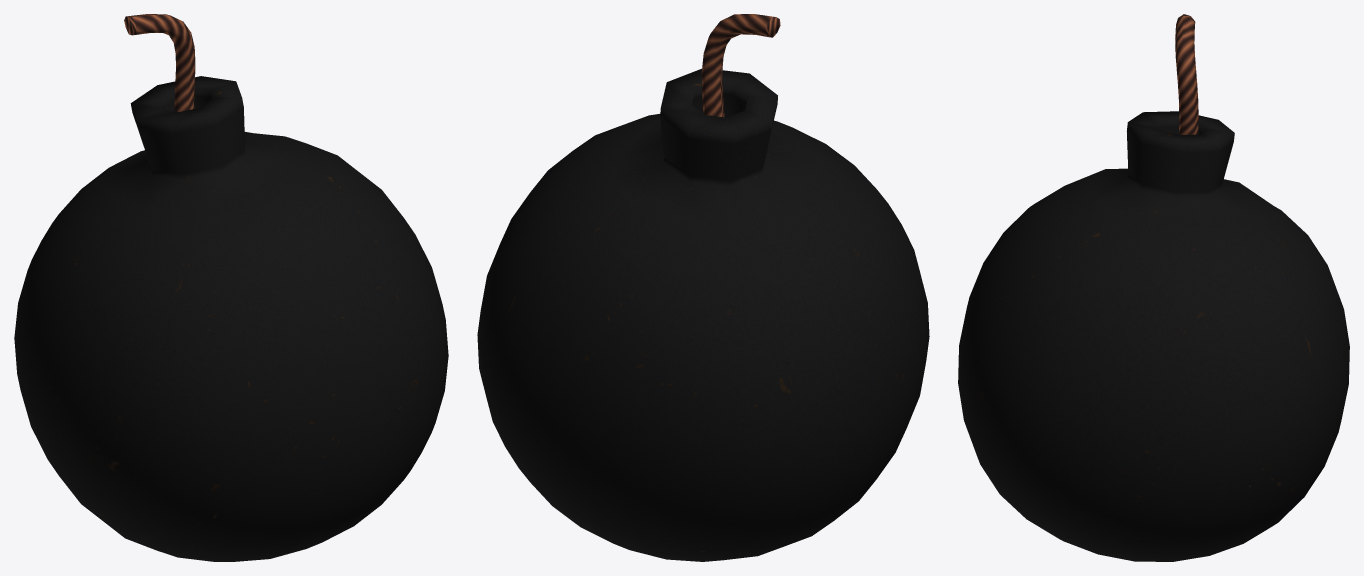
The model's file is Bomb.fbx.
3 views of the same model, side by side, from view 1: azimuth 30°, elevation 25°; view 2: azimuth 150°, elevation 25°; view 3: azimuth 270°, elevation 25° (orthographic). The views are drawn at different scales.
Visible parts, largest first — view 1: Bomb; view 2: Bomb; view 3: Bomb.
Part boxes in pixels (x1,y1,x2,y2): Bomb: [14, 14, 448, 561]; Bomb: [477, 14, 929, 561]; Bomb: [958, 14, 1349, 561].
Size of the model in its own units: 6.48 by 8.92 by 6.47.
Materials: 2 (2 with a texture image).
